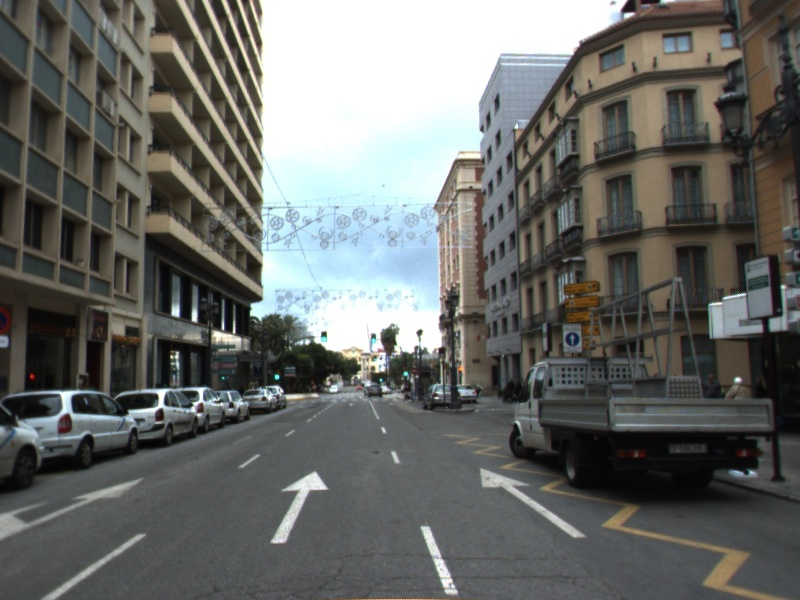STRAIGHT: (476, 464, 592, 541), (265, 467, 333, 546)
STRAIGHT_LEFT: (1, 474, 151, 541)
